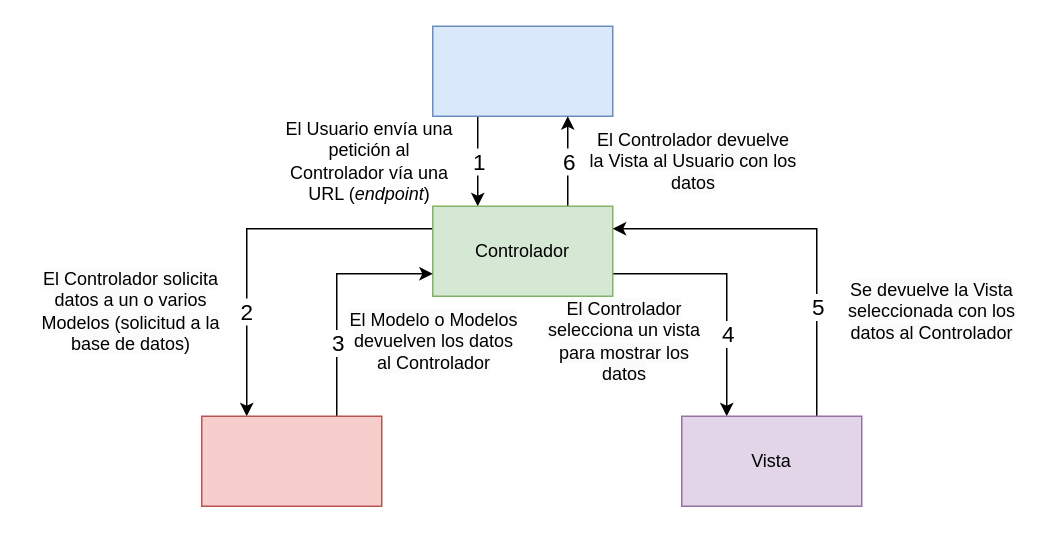
Some shapes in this 1062 by 533 pixel diagram are drawn without their labels. Here are the shapes that lost their labels. From the top down, the centre of each, then its label:
At point (522, 70): "Usuario (Navegador)".
At point (291, 460): "Modelo".
